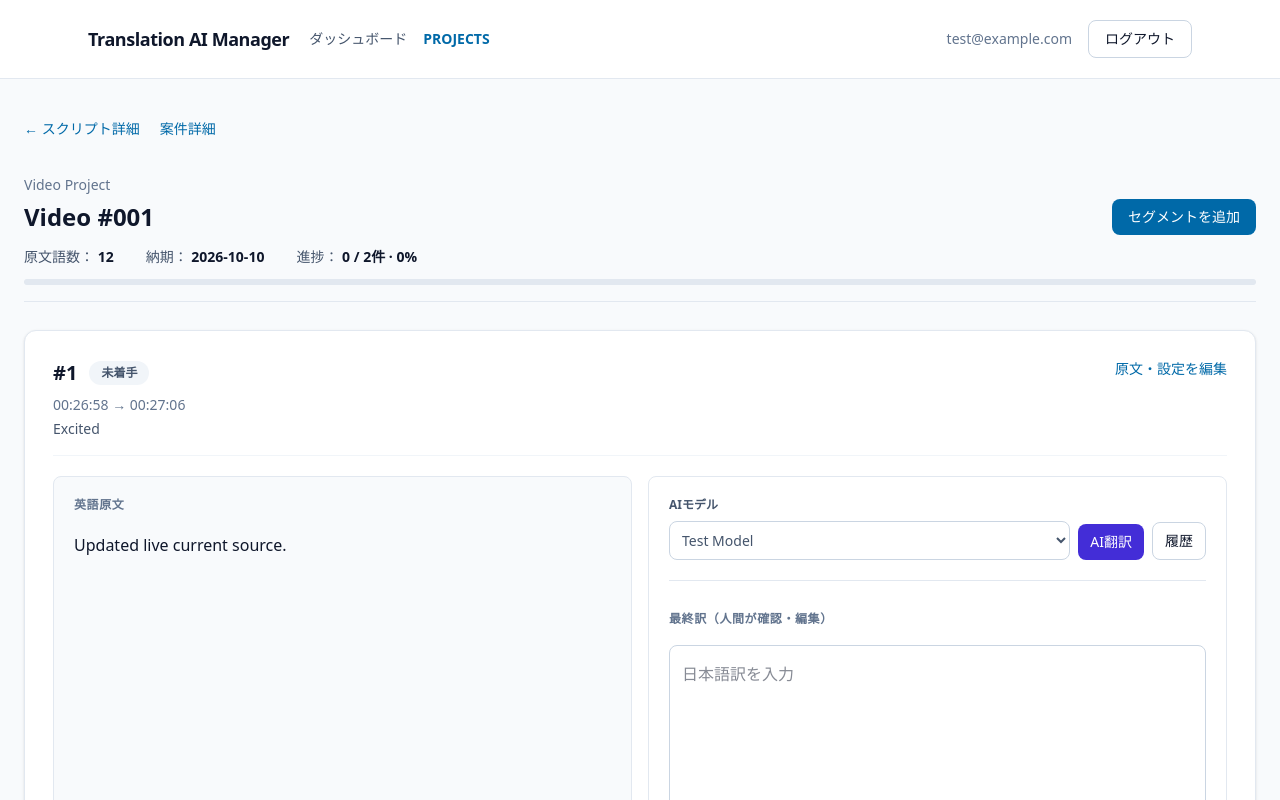
shows the captured previous current and next context in history instead of live edited text
Click the button "履歴". click: (1179, 541)
box: [1152, 522, 1206, 560]
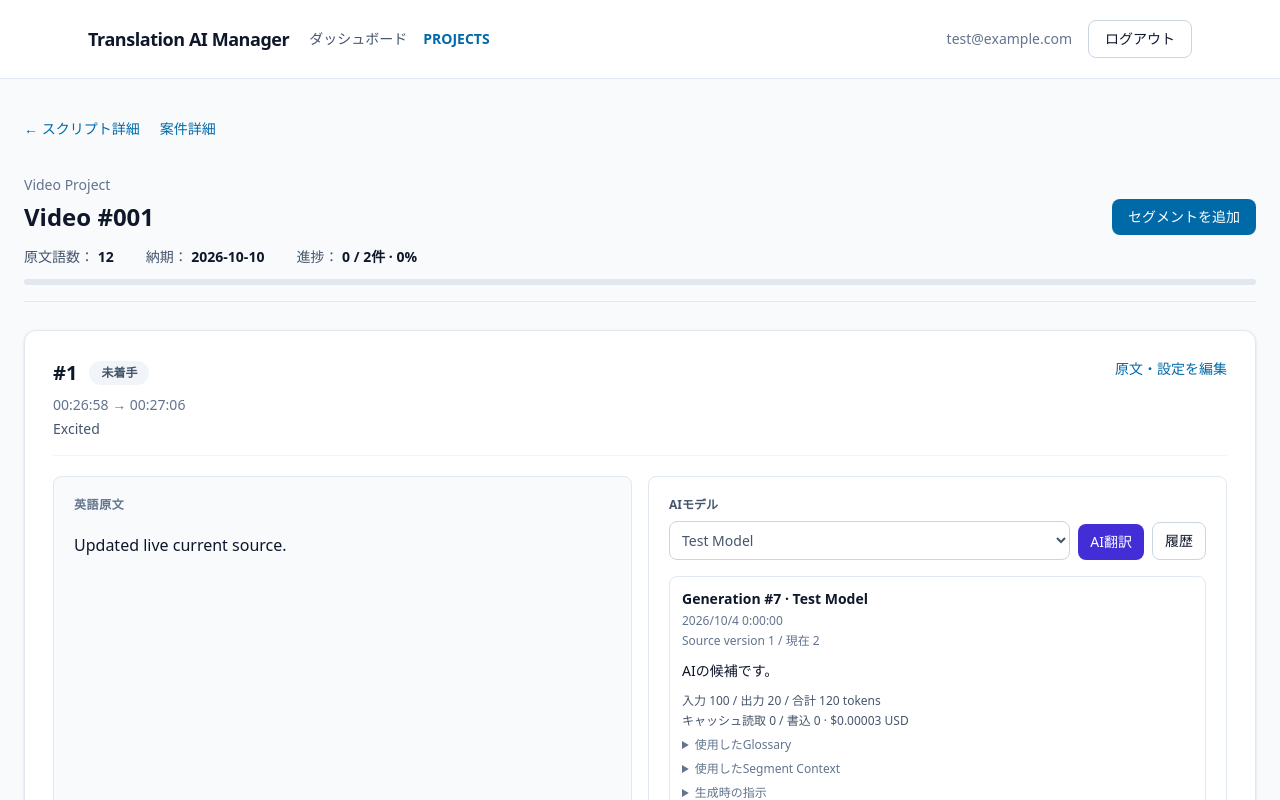
Click the heading "使用したSegment Context". click: (767, 768)
box: [695, 760, 840, 777]
(page scrolled)
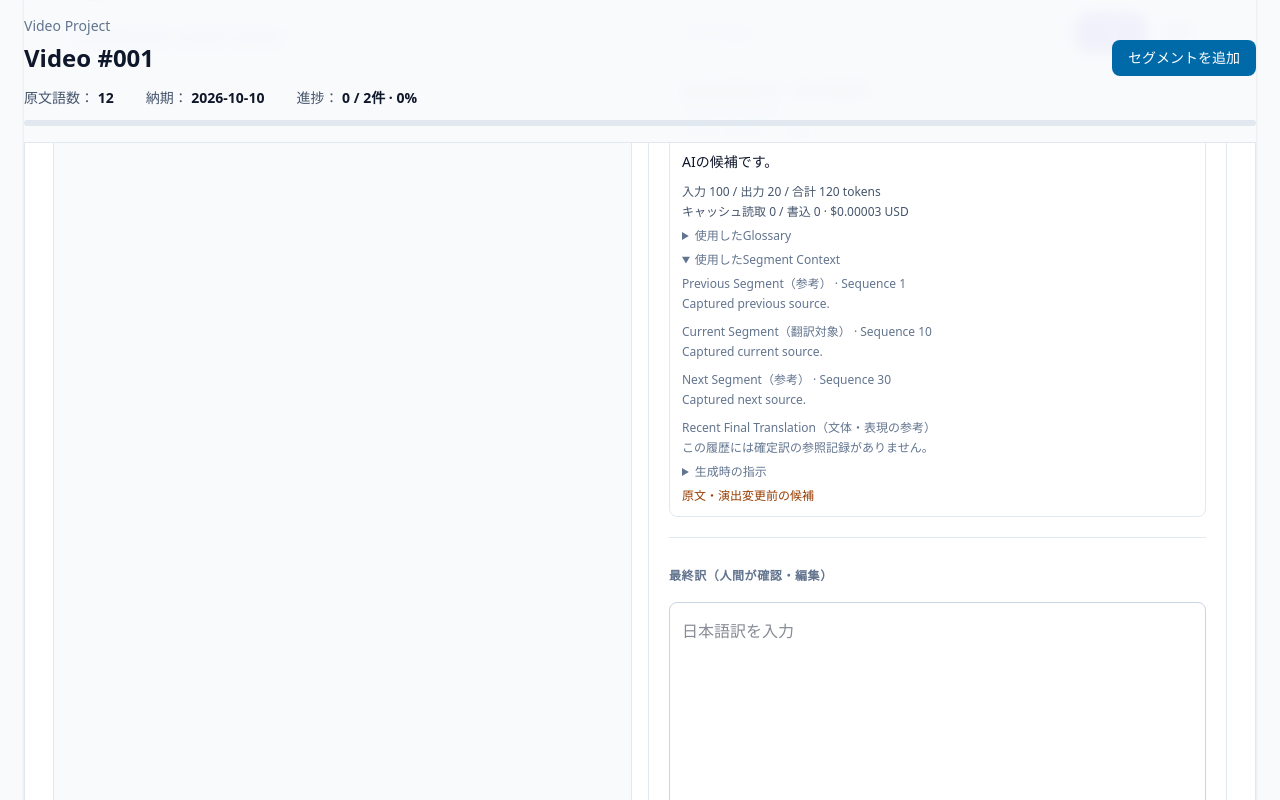
Now the text "Previous Segment（参考） · Sequence 1" is shown, box [682, 275, 906, 292]
Now the text "Current Segment（翻訳対象） · Sequence 10" is shown, box [682, 323, 932, 340]
Now the text "Next Segment（参考） · Sequence 30" is shown, box [682, 371, 891, 388]
